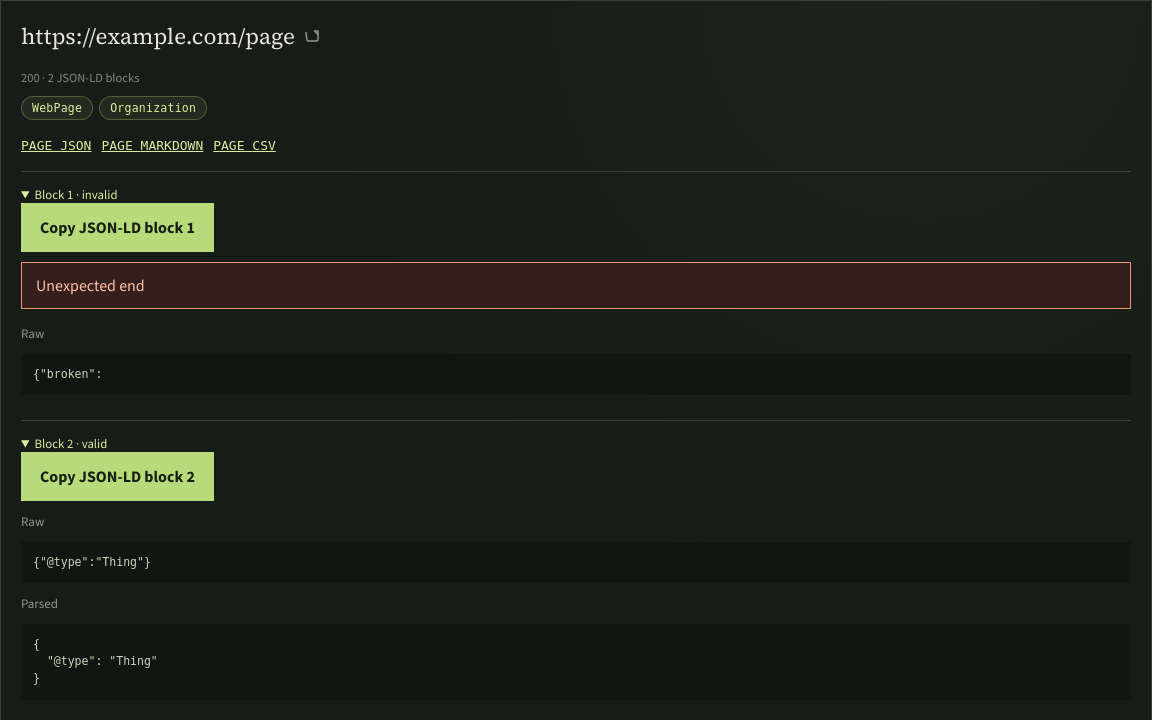
PageDetail › copies exact raw JSON-LD text and confirms successful copy
This screenshot has width=1152, height=720.
Click the button "Copy JSON-LD block 1".
click(117, 228)  # box [21,203,214,252]
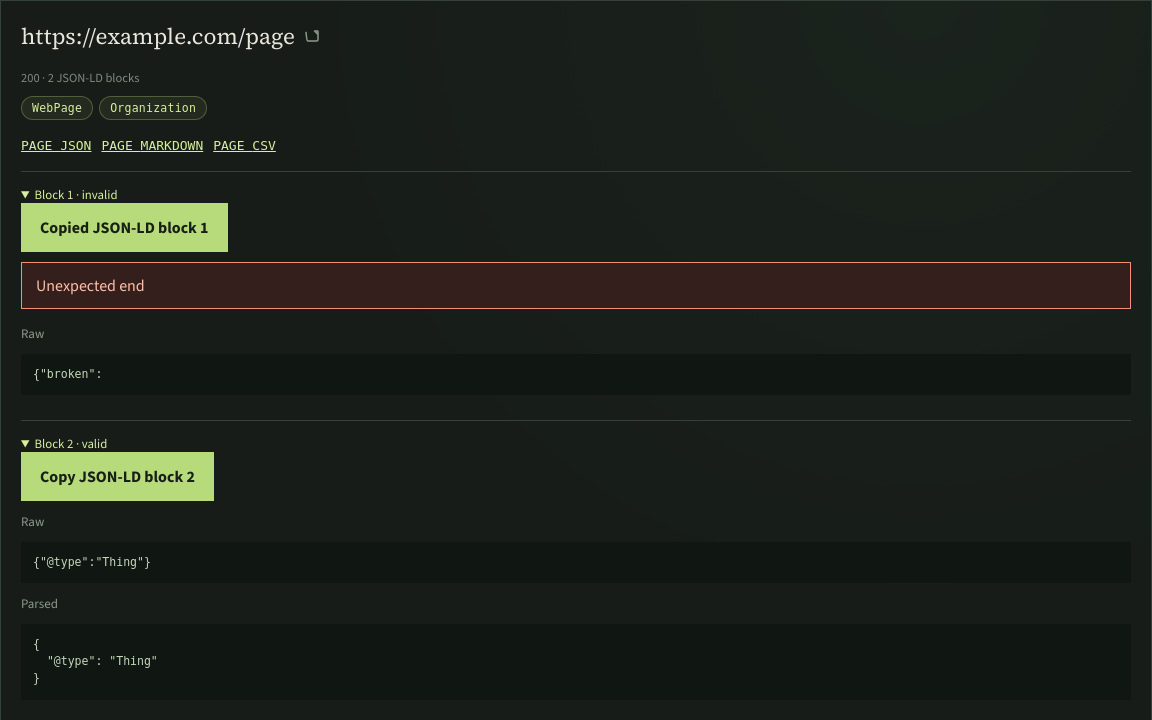
Expected: the button "Copied JSON-LD block 1" is shown, [21,203,228,252]
